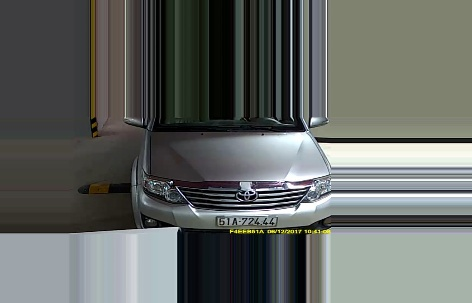plate: (215, 210, 278, 225)
